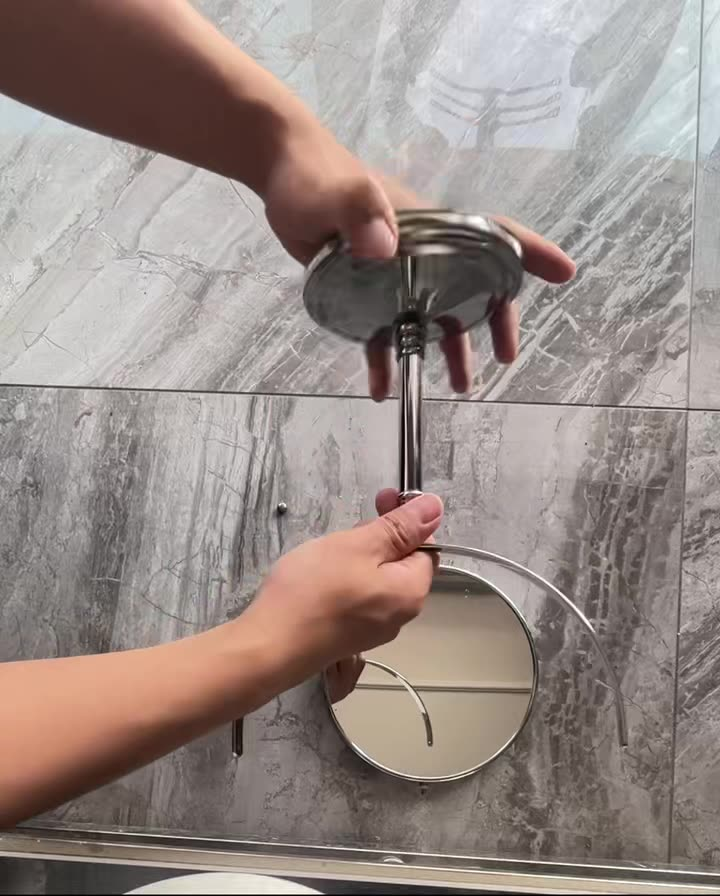base: (284, 206, 557, 344)
frame: (219, 320, 608, 731)
mirror: (312, 561, 542, 787)
screw: (272, 502, 293, 517)
